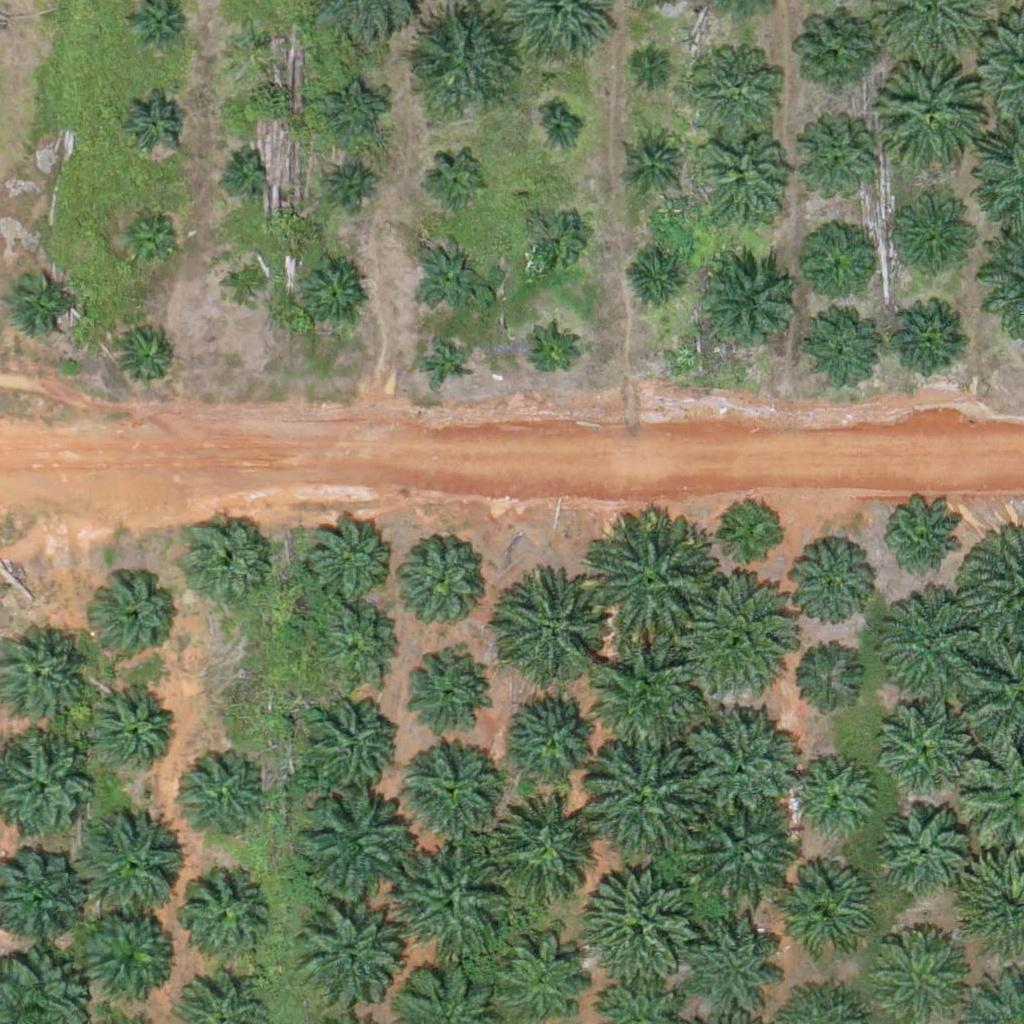Kelapa_Sawit: (589, 525, 714, 651), (689, 580, 802, 694), (485, 793, 598, 907), (878, 585, 991, 698), (592, 643, 705, 756), (583, 744, 696, 857), (580, 864, 693, 977), (870, 54, 983, 167), (402, 3, 515, 116), (296, 790, 408, 904), (689, 795, 801, 908), (684, 708, 796, 821), (395, 849, 507, 962), (71, 806, 183, 919), (687, 902, 787, 1003), (507, 686, 607, 787), (391, 530, 491, 631), (167, 750, 267, 851), (74, 904, 174, 1005), (696, 253, 796, 354), (776, 864, 876, 964), (502, 584, 602, 684), (404, 740, 504, 840), (295, 909, 395, 1009), (300, 693, 400, 793), (176, 865, 276, 965), (786, 542, 874, 631), (877, 700, 965, 788), (787, 754, 875, 842), (398, 646, 486, 734), (180, 515, 268, 603), (83, 686, 171, 774), (691, 44, 779, 132), (699, 138, 787, 226), (878, 496, 965, 584), (880, 930, 967, 1018), (879, 804, 966, 892), (318, 601, 405, 689), (306, 518, 393, 606), (93, 575, 180, 663), (885, 191, 972, 279), (7, 265, 82, 341), (799, 14, 874, 90), (788, 647, 863, 723), (893, 307, 968, 383), (801, 129, 876, 205), (804, 311, 879, 387), (296, 255, 371, 330), (412, 237, 487, 312), (124, 93, 187, 156), (801, 234, 864, 297), (117, 325, 180, 388), (625, 252, 688, 315), (722, 499, 785, 562), (520, 207, 583, 270), (117, 207, 180, 270), (324, 80, 386, 143), (428, 149, 490, 212), (526, 329, 576, 380), (330, 158, 380, 209), (419, 338, 469, 389), (227, 15, 277, 66), (217, 144, 267, 195), (628, 137, 678, 187), (221, 260, 271, 310), (636, 48, 674, 86), (541, 110, 578, 148)
